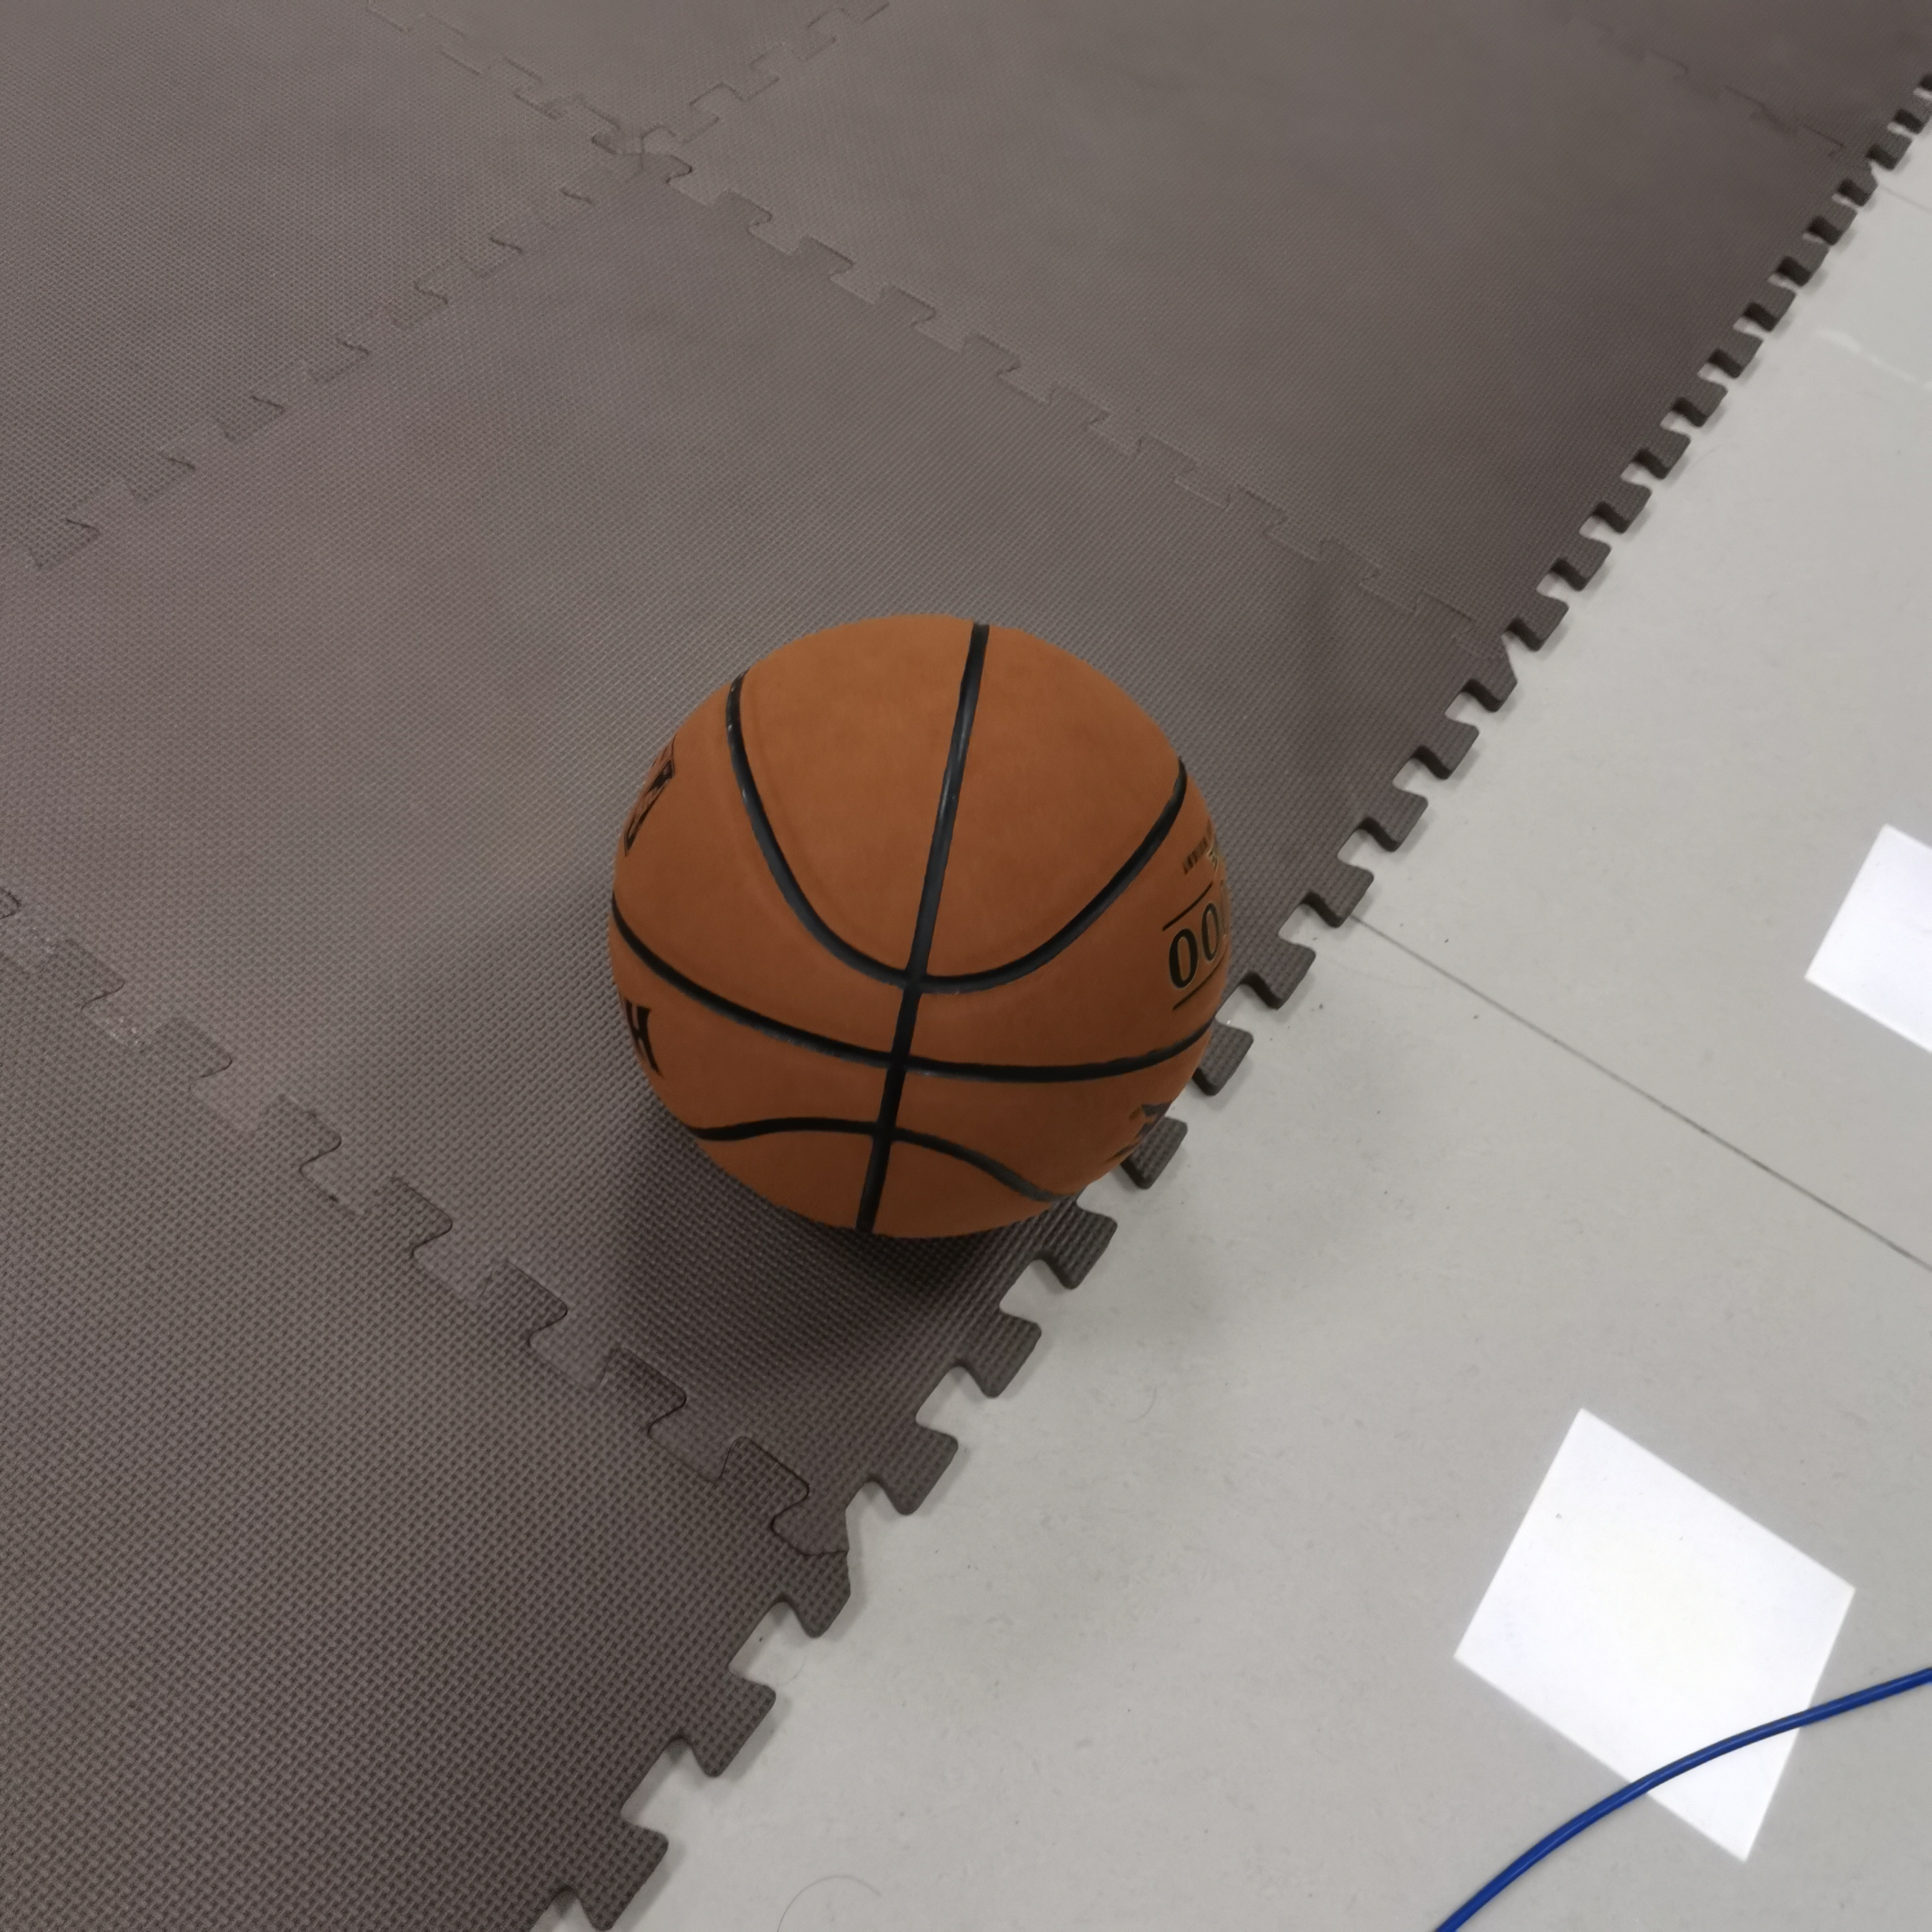basketball: (610, 610, 1233, 1242)
